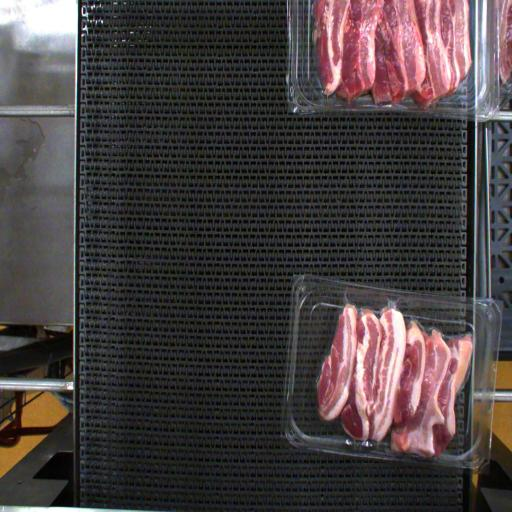packaging-error: (383, 296, 401, 314), (340, 288, 354, 310)
unsealed: (314, 291, 479, 416)
